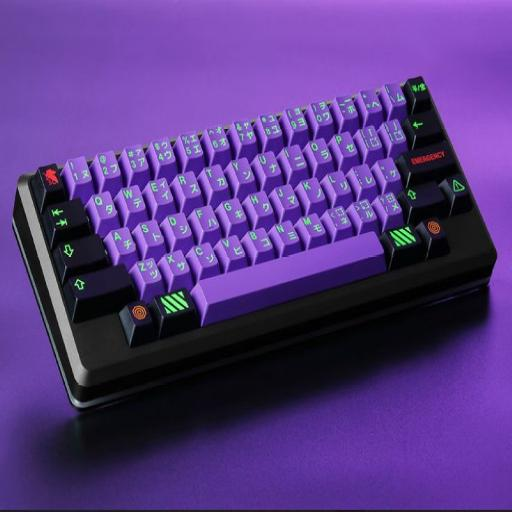KEYBOARD-2: (10, 71, 504, 421)
